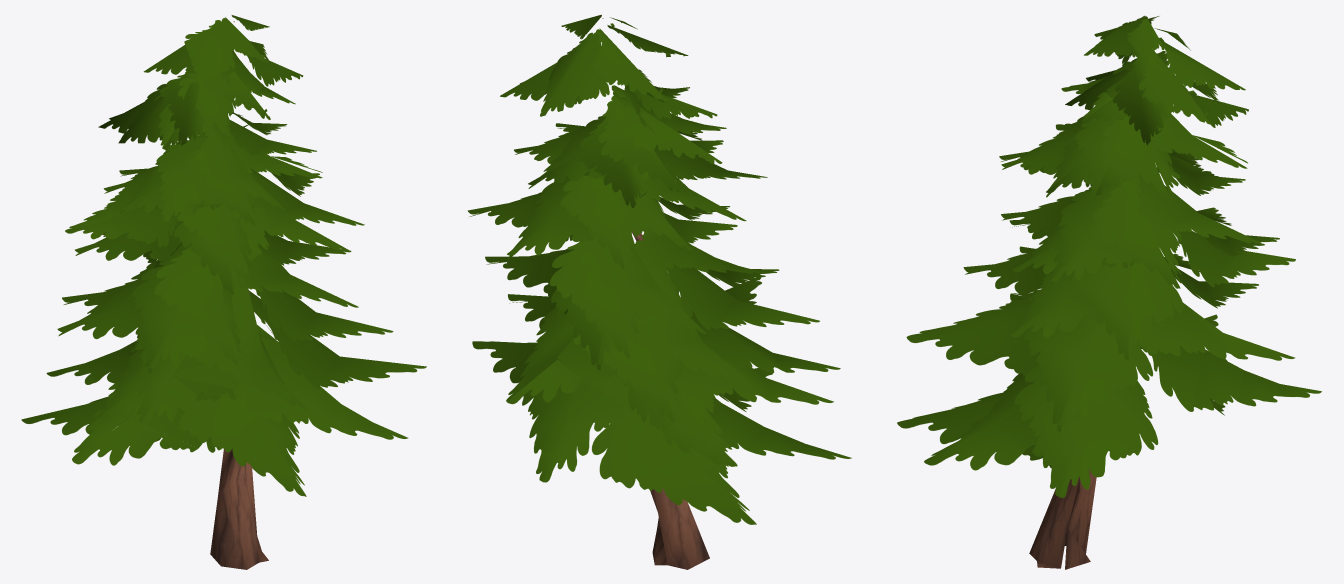
Rendered from distant_tree_1.glb.
3 views of the same model, side by side, from view 1: azimuth 30°, elevation 25°; view 2: azimuth 150°, elevation 25°; view 3: azimuth 270°, elevation 25° (orthographic). The views are drawn at different scales.
Parts seen in each view (by area): view 1: Pine_5; view 2: Pine_5; view 3: Pine_5.
Part boxes in pixels (left/top/right/bottom): Pine_5: left=21, top=15, right=426, bottom=569; Pine_5: left=467, top=14, right=851, bottom=569; Pine_5: left=897, top=16, right=1321, bottom=569.
Size of the model in its own units: 5.34 by 7.22 by 5.18.
Materials: 2 (2 with a texture image).
